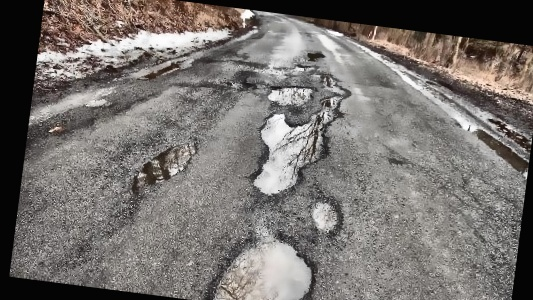pothole: (207, 227, 324, 300), (250, 109, 335, 202), (129, 130, 201, 202), (313, 69, 352, 122), (308, 195, 345, 238), (266, 80, 317, 109), (291, 61, 318, 74)
